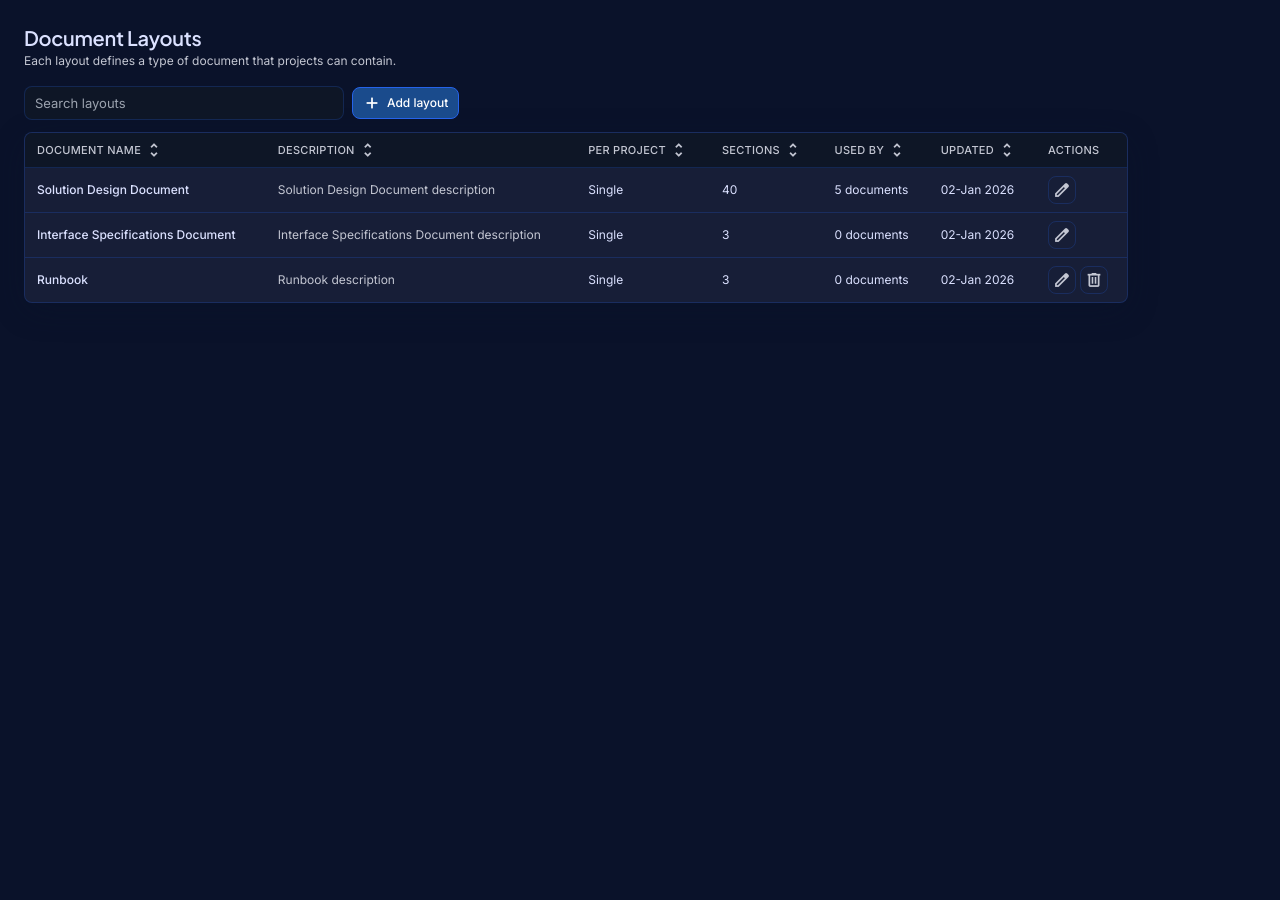
delete asks for confirmation
Check: the button "Runbook" is shown, box x1=37 y1=271 x2=88 y2=289
Click the button named "Delete Runbook": (1094, 280) x1=1080 y1=266 x2=1108 y2=294
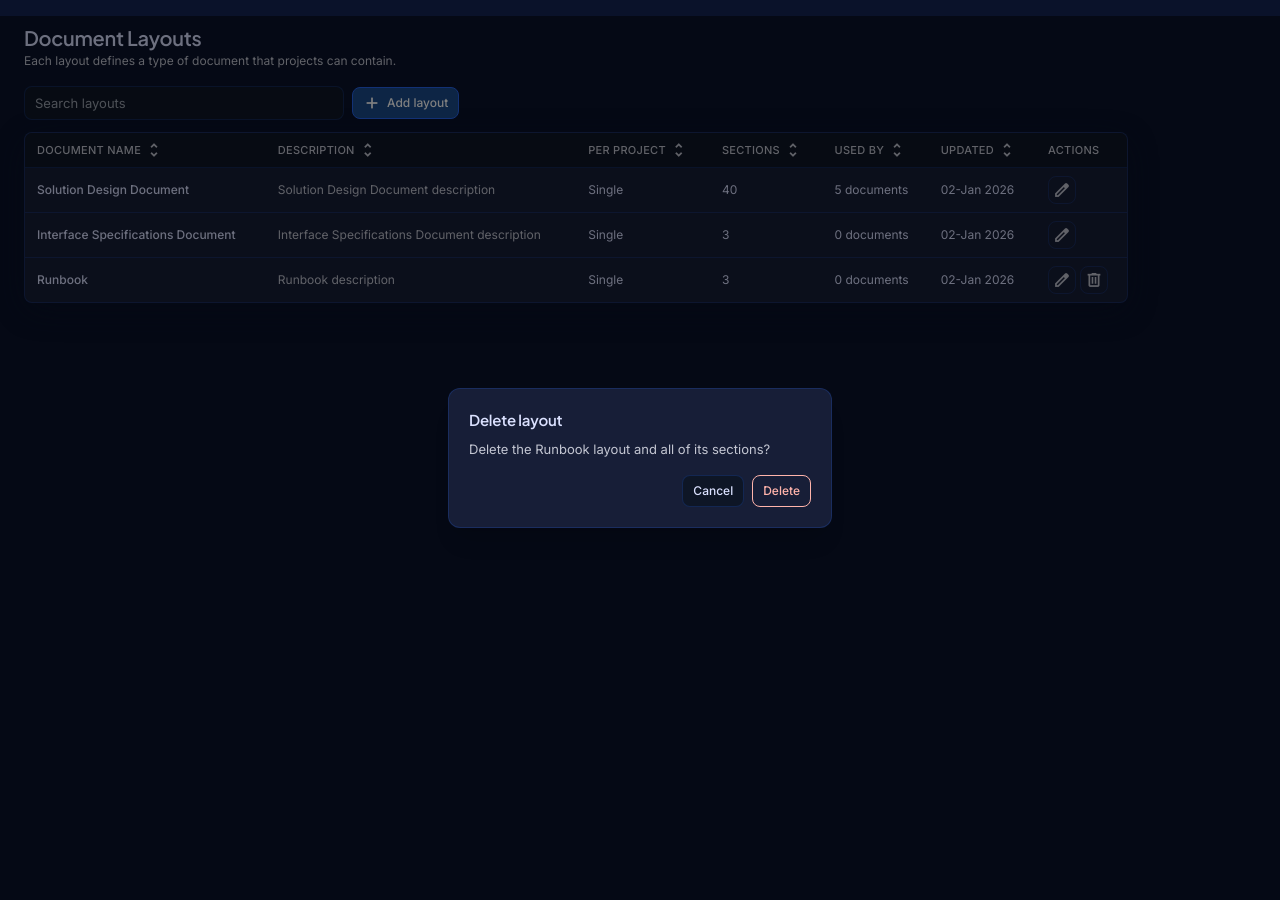
Click the button "Delete": (782, 491) x1=752 y1=475 x2=811 y2=507
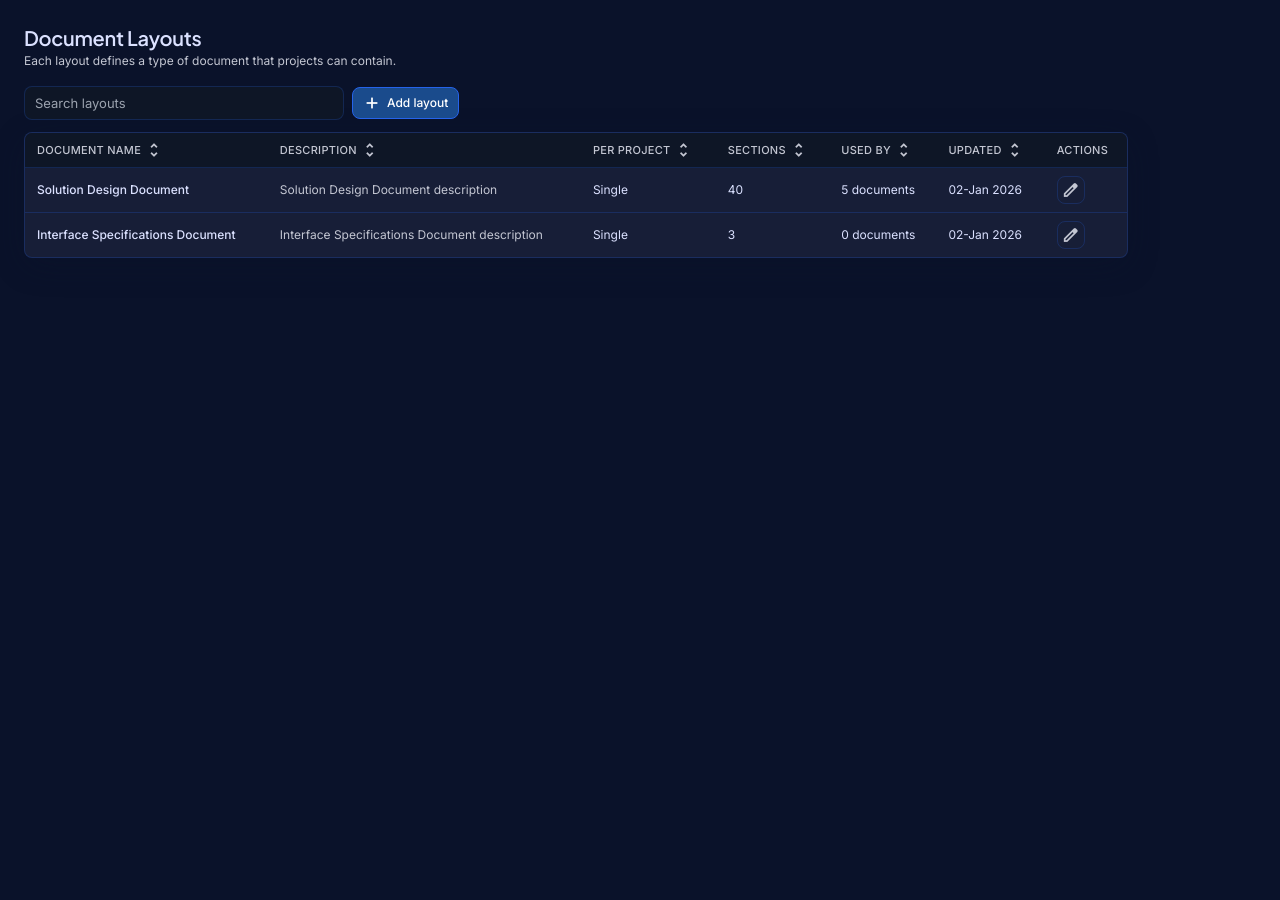
Check: the button "Runbook" is gone
